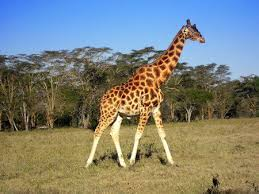Jirafa: (132, 17, 209, 102)
